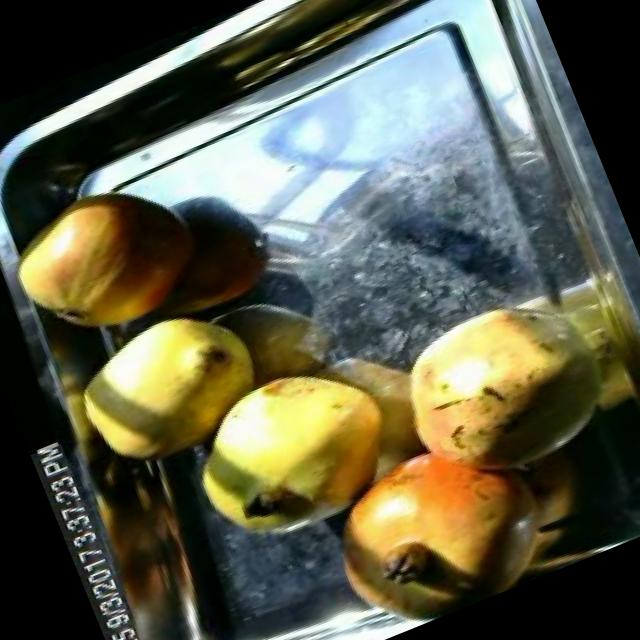fruit: (288, 385, 594, 640), (361, 249, 640, 524), (158, 328, 430, 576), (50, 280, 292, 493), (0, 152, 230, 365)
